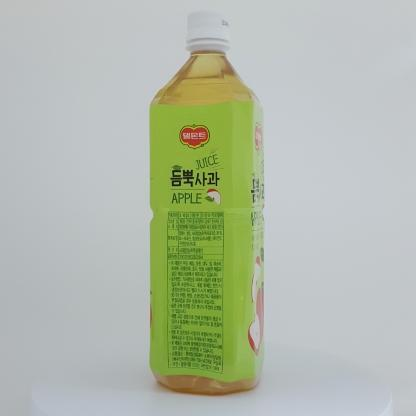----------1L: (149, 9, 265, 395)
